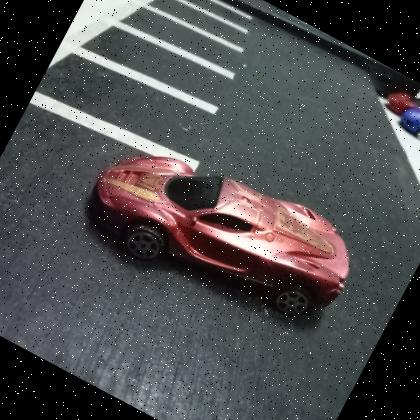Car: (72, 112, 372, 351)
